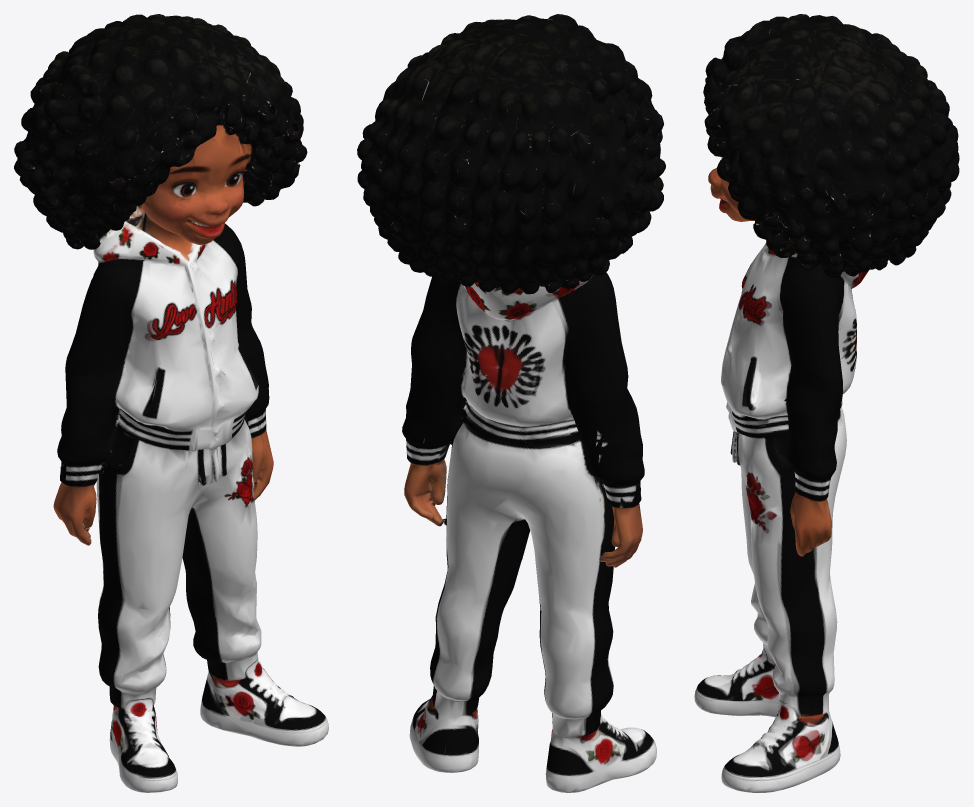
Rendered from love_hurts_girl_static.glb.
3 views of the same model, side by side, from view 1: azimuth 30°, elevation 25°; view 2: azimuth 150°, elevation 25°; view 3: azimuth 270°, elevation 25° (orthographic). The views are drawn at different scales.
Visible parts, largest first — view 1: CleanedMesh; view 2: CleanedMesh; view 3: CleanedMesh.
Part boxes in pixels (bbox=[...]): CleanedMesh: bbox=[14, 14, 328, 792]; CleanedMesh: bbox=[357, 14, 665, 792]; CleanedMesh: bbox=[694, 14, 959, 792].
Bounding box in the file's own units: 0.7328 × 1.91 × 0.6508.
1 material, 1 textured.
